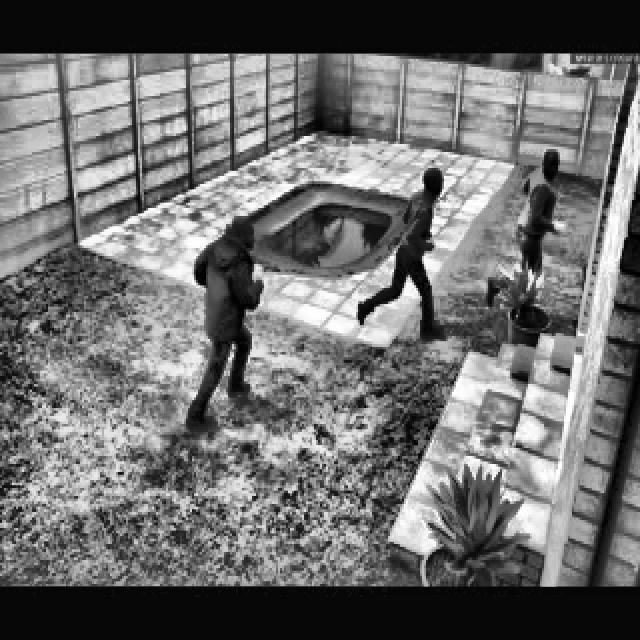burglary: (351, 164, 449, 351), (184, 212, 265, 434), (486, 147, 566, 310)
